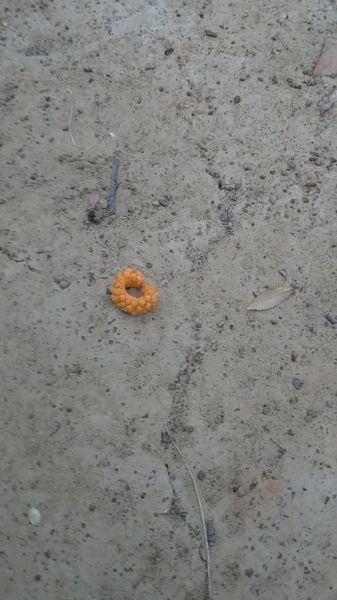eggs: (103, 261, 166, 323)
